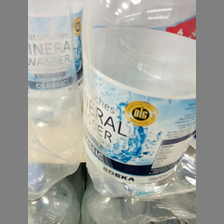water: (82, 3, 195, 197)
